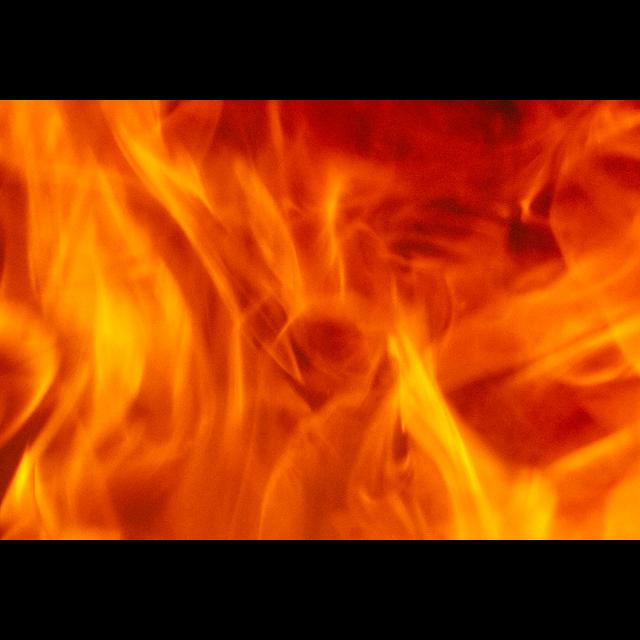fire: (0, 100, 640, 540)
